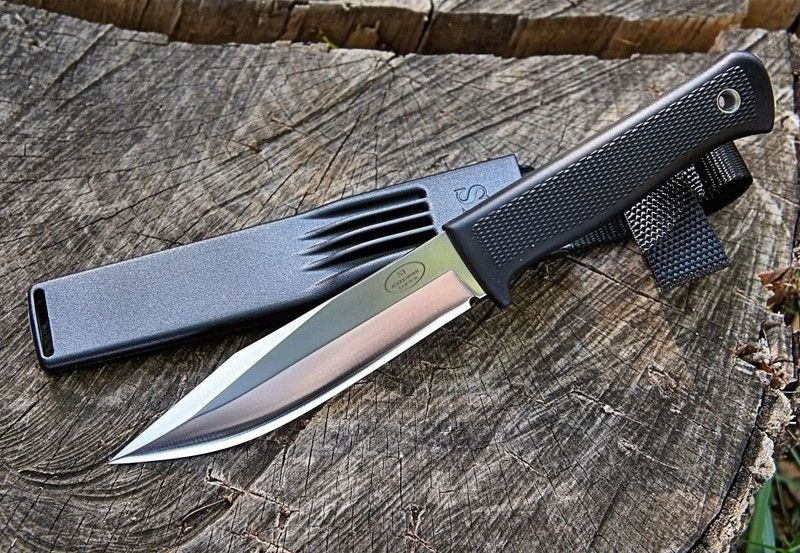knife: (100, 225, 496, 469)
